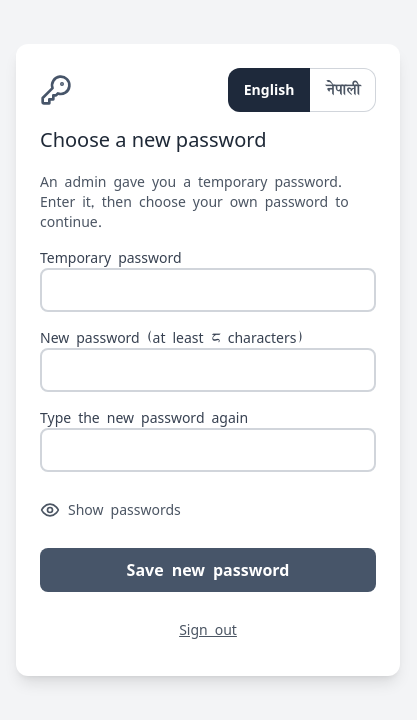
Test: ChangePasswordRequiredPage › refuses reusing the temporary password
The width and height of the screenshot is (417, 720).
In the password field labelled "Temporary password": (208, 290) [40,268,376,312], type "Temp12345"
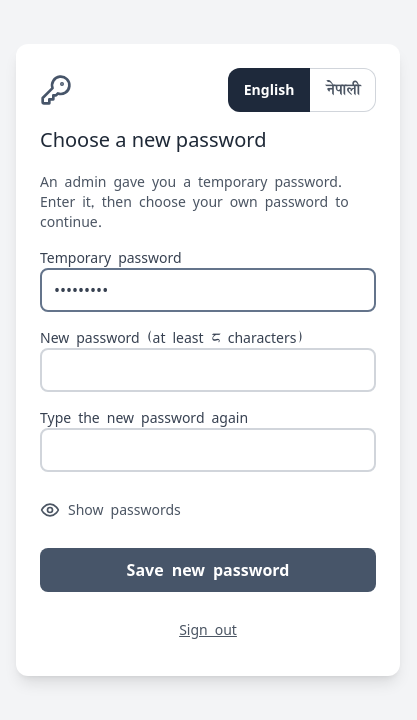
In the password field labelled "New password (at least 8 characters)": (208, 370) [40,348,376,392], type "Temp12345"
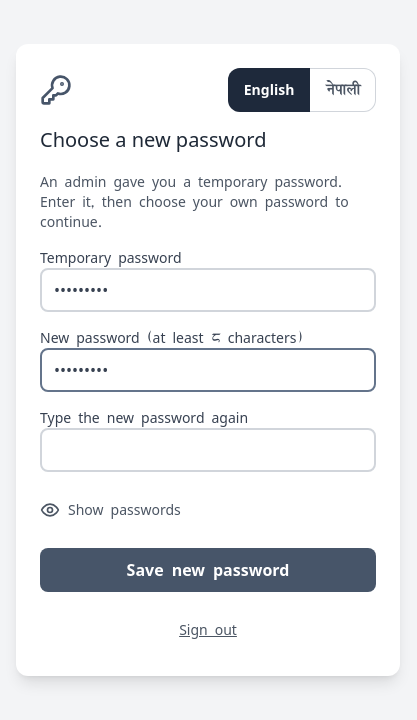
In the password field labelled "Type the new password again": (208, 450) [40,428,376,472], type "Temp12345"
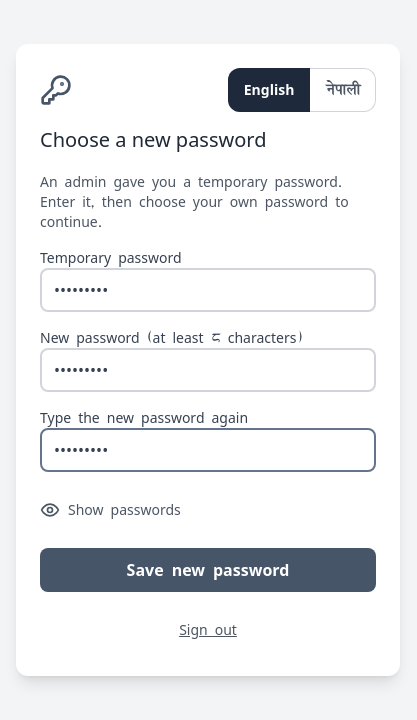
Click the button "Save new password": (208, 570) [40,548,376,592]
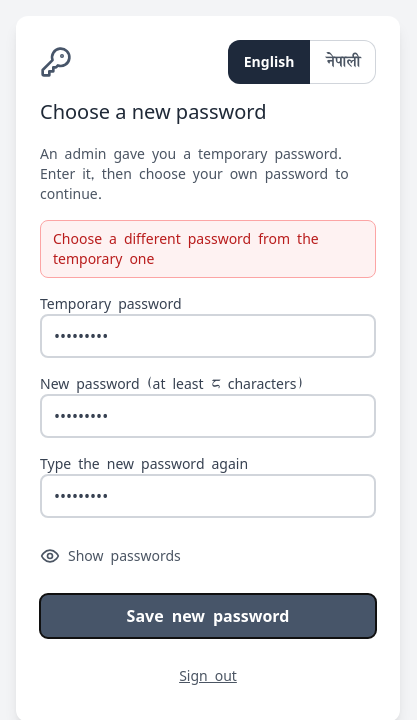
Result: the message shows "different password" at [53,227,319,270]
